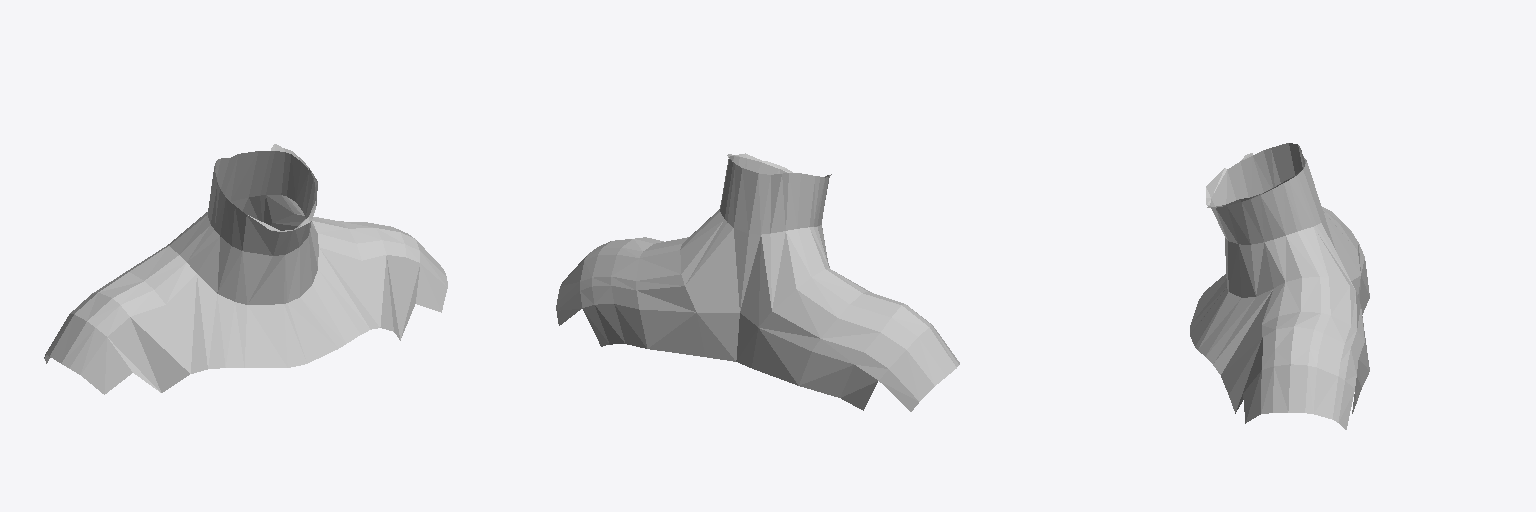
Rendered from body_low.obj.
3 renders of one model, left to right at view 1: azimuth 30°, elevation 25°; view 2: azimuth 150°, elevation 25°; view 3: azimuth 270°, elevation 25°, orthographic.
Visible parts, largest first — view 1: body_low:polySurface462 body_low:polySurface465 body_low:polySur; view 2: body_low:polySurface462 body_low:polySurface465 body_low:polySur; view 3: body_low:polySurface462 body_low:polySurface465 body_low:polySur.
Boxes of the visible parts, box(x1,y1,x2,y2) form: body_low:polySurface462 body_low:polySurface465 body_low:polySur: box(44, 144, 447, 394); body_low:polySurface462 body_low:polySurface465 body_low:polySur: box(556, 153, 959, 411); body_low:polySurface462 body_low:polySurface465 body_low:polySur: box(1190, 143, 1369, 429).
Size of the model in its own units: 36.32 by 17.71 by 14.71.